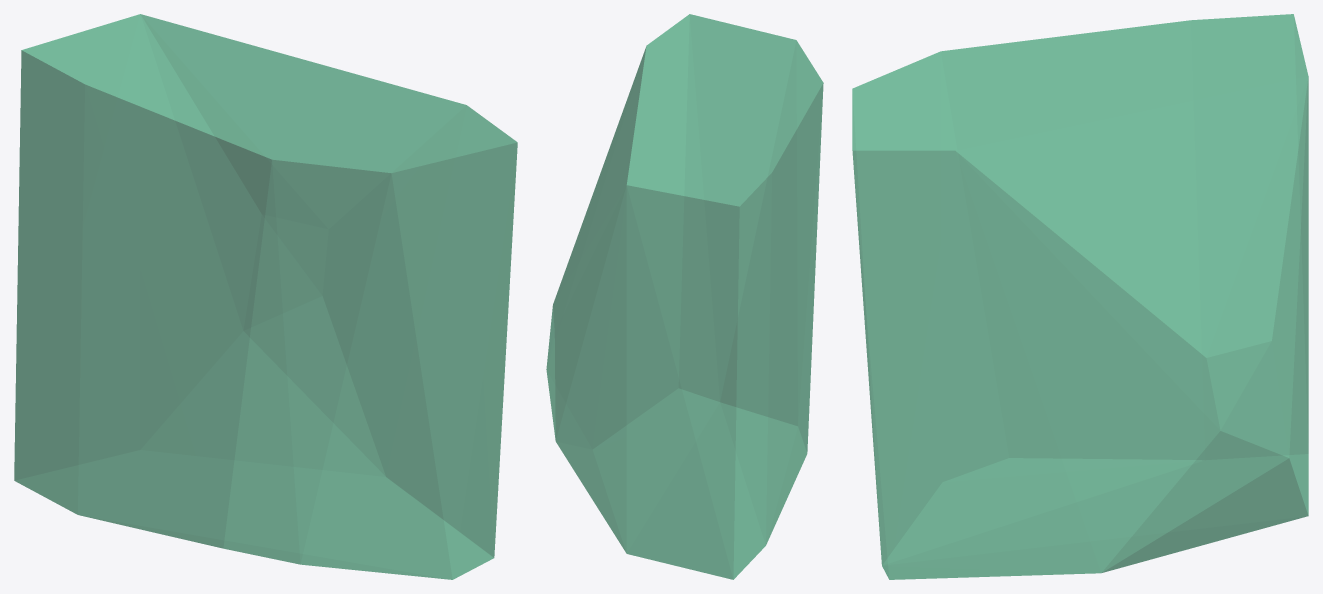
The picture shows the model from 3 angles, left to right: view 1: azimuth 30°, elevation 25°; view 2: azimuth 150°, elevation 25°; view 3: azimuth 270°, elevation 25°; orthographic projection. The views are drawn at different scales.
Visible parts, largest first — view 1: Shape_IndexedFaceSet.032_Shape_IndexedFaceSet.18255; view 2: Shape_IndexedFaceSet.032_Shape_IndexedFaceSet.18255; view 3: Shape_IndexedFaceSet.032_Shape_IndexedFaceSet.18255.
Part boxes in pixels (x1,y1,x2,y2): Shape_IndexedFaceSet.032_Shape_IndexedFaceSet.18255: (14,14,517,579); Shape_IndexedFaceSet.032_Shape_IndexedFaceSet.18255: (546,14,823,579); Shape_IndexedFaceSet.032_Shape_IndexedFaceSet.18255: (852,14,1308,579).
Size of the model in its own units: 0.1186 by 0.1778 by 0.1671.
